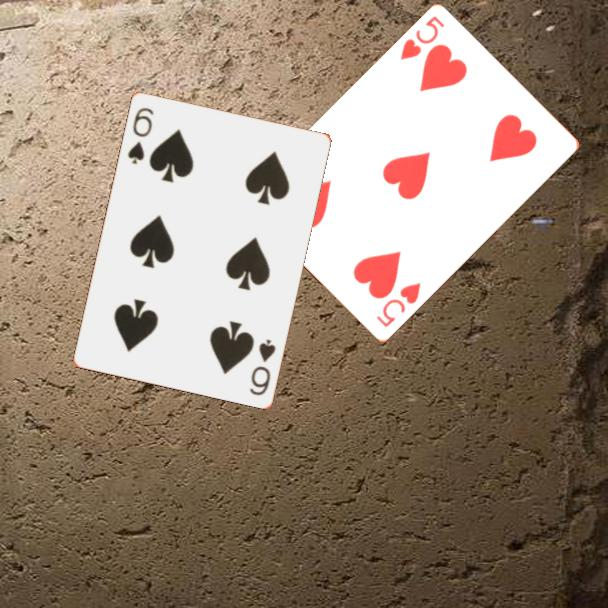h05: (373, 279, 424, 331), (397, 13, 447, 63)
s06: (124, 103, 156, 167), (246, 335, 278, 398)
